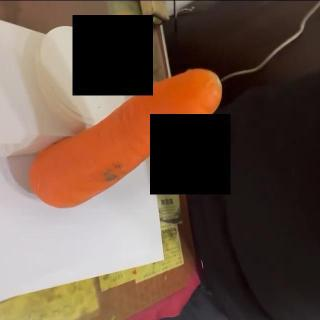carrot: (28, 67, 224, 209)
